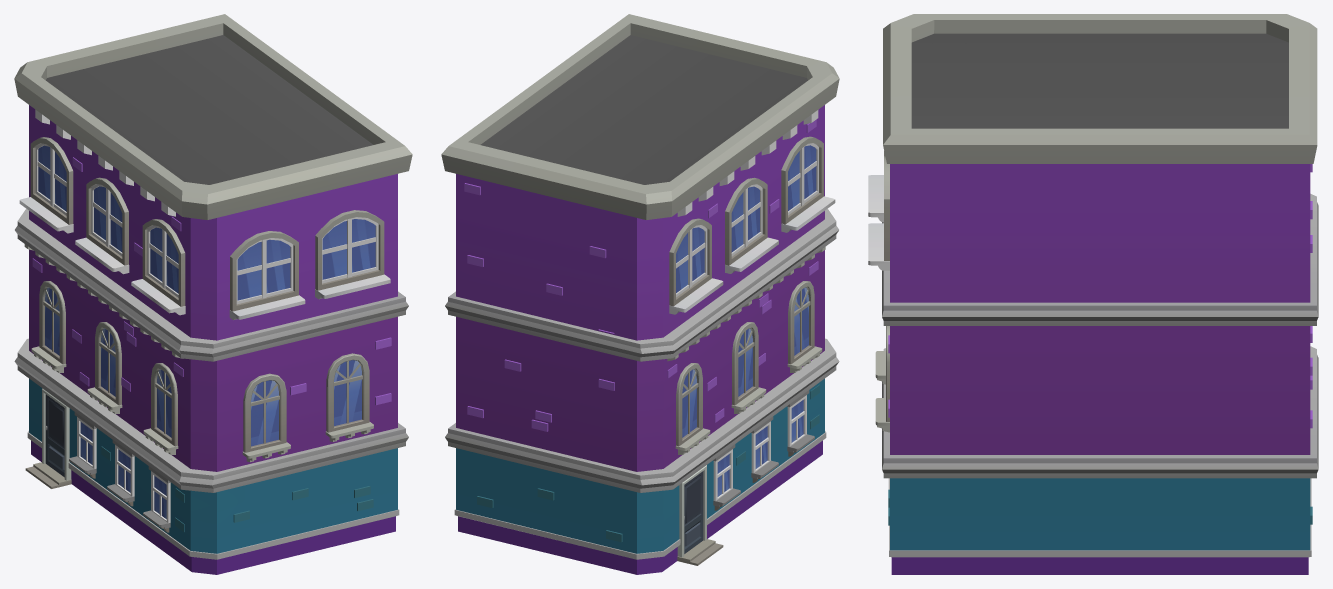
File: Building_18_3_H.fbx
3 renders of one model, left to right at view 1: azimuth 30°, elevation 25°; view 2: azimuth 150°, elevation 25°; view 3: azimuth 270°, elevation 25°, orthographic. The views are drawn at different scales.
Parts seen in each view (by area): view 1: Building_18_3_H; view 2: Building_18_3_H; view 3: Building_18_3_H.
Part boxes in pixels (x1,y1,x2,y2): Building_18_3_H: (14, 14, 412, 574); Building_18_3_H: (441, 14, 839, 574); Building_18_3_H: (868, 14, 1318, 574).
Bounding box in the file's own units: 719 × 1156 × 1059.
